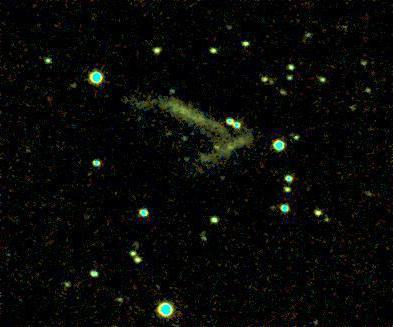star: (302, 306, 332, 327)
